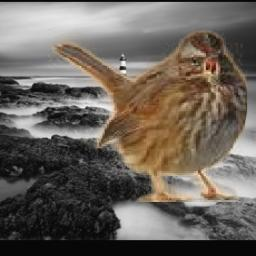Sparrow: (49, 29, 248, 202)
